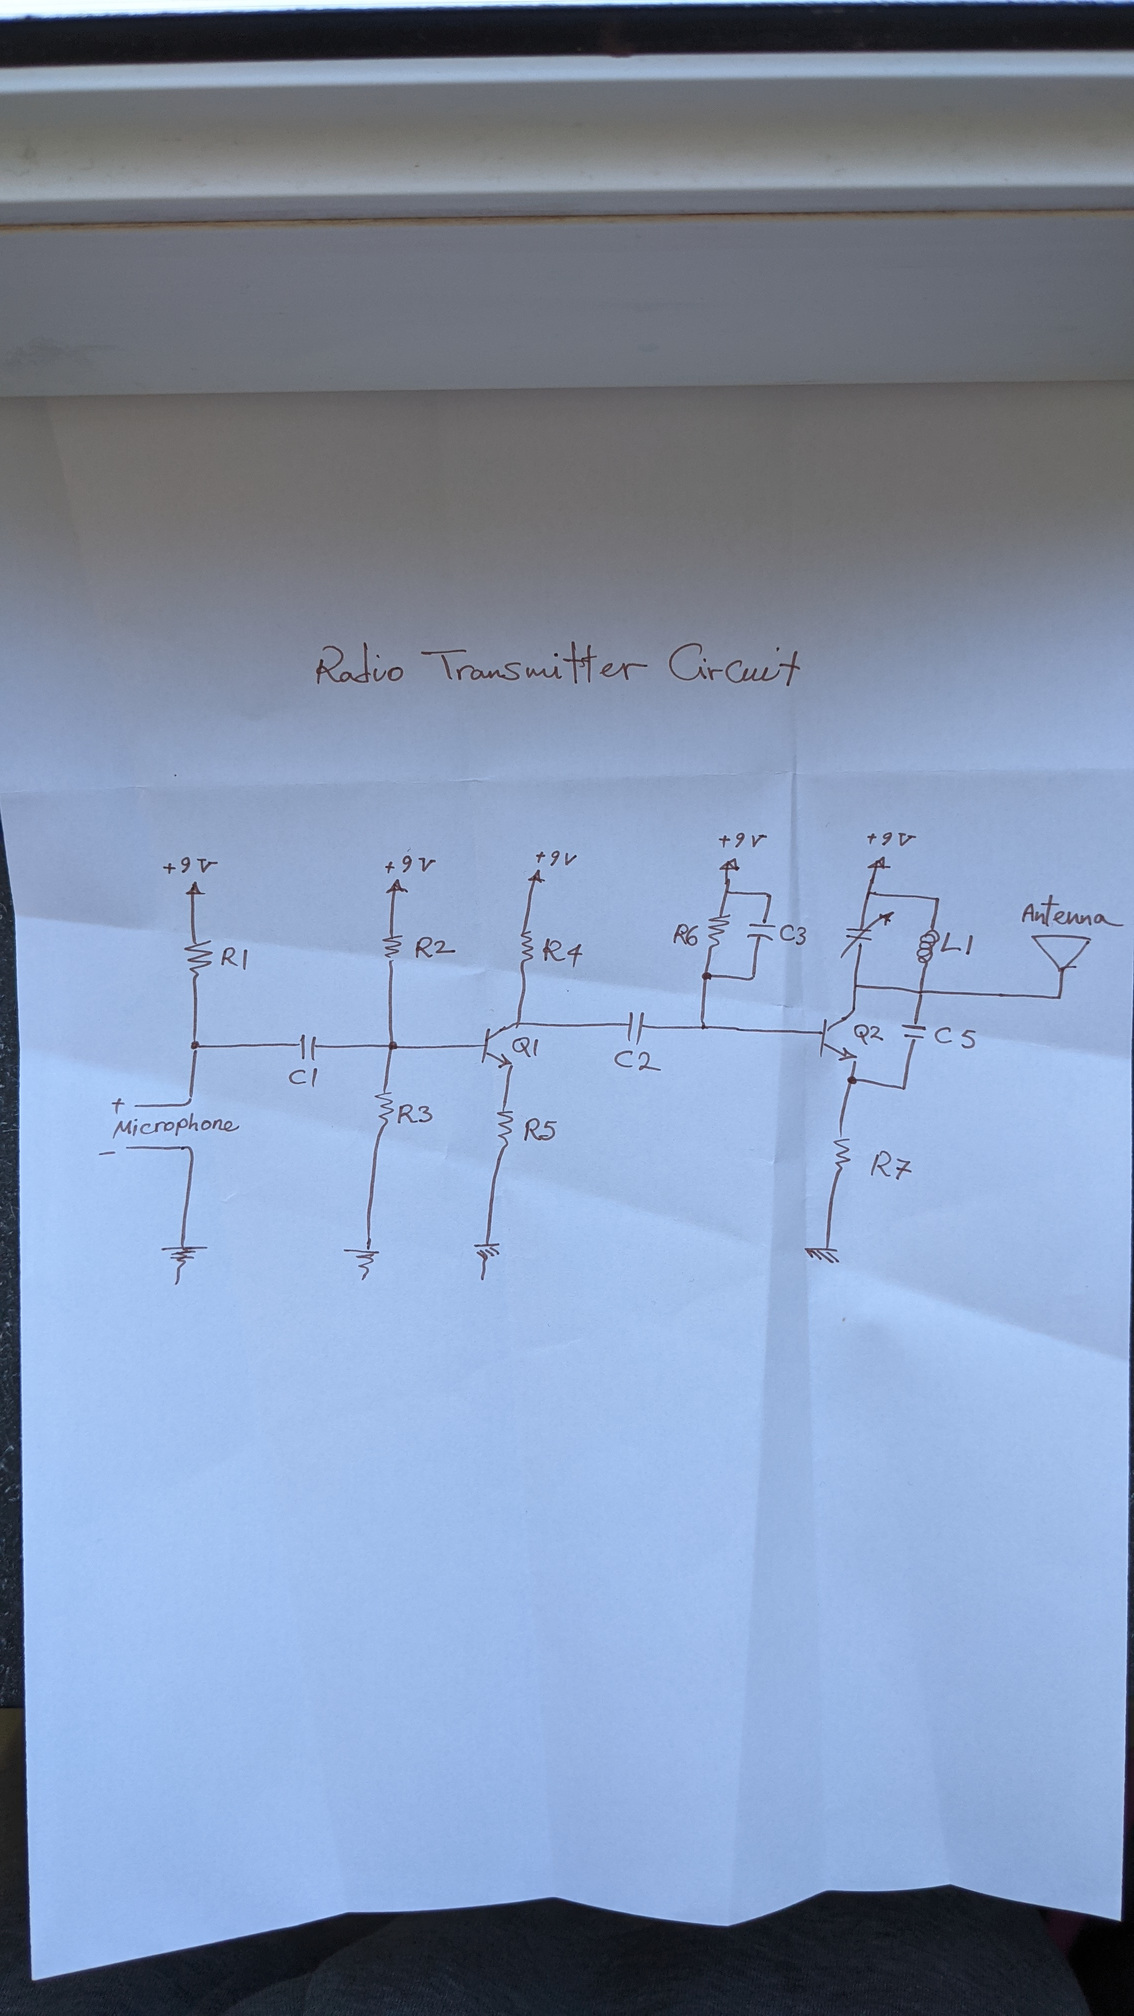antenna: (1029, 932, 1094, 975)
capacitor.unpolarized: (839, 908, 896, 960), (623, 1008, 649, 1047), (745, 919, 777, 944), (295, 1032, 320, 1063), (899, 1020, 929, 1043)
gnd: (158, 1241, 212, 1288), (341, 1243, 384, 1284), (472, 1241, 503, 1284), (802, 1243, 845, 1266)
inductor: (915, 926, 942, 966)
junction: (188, 1036, 204, 1054), (183, 1144, 198, 1158), (701, 969, 714, 984), (386, 1038, 400, 1052), (745, 971, 759, 984), (696, 1016, 709, 1032), (181, 1097, 195, 1109), (846, 1074, 858, 1086), (932, 894, 943, 906), (763, 890, 775, 900), (721, 888, 732, 897), (1054, 991, 1063, 1002), (917, 987, 926, 997), (899, 1083, 908, 1092), (864, 888, 874, 897), (852, 980, 860, 991)
resistor: (181, 937, 213, 983), (703, 912, 732, 951), (372, 1086, 396, 1130), (494, 1104, 516, 1149), (831, 1133, 853, 1174), (379, 930, 406, 965), (518, 928, 534, 965)
terminal: (122, 1141, 132, 1153), (130, 1101, 138, 1109)
text: (313, 637, 806, 691), (109, 1110, 242, 1141), (1019, 893, 1128, 929), (868, 1148, 915, 1182), (541, 936, 584, 969), (612, 1048, 665, 1074), (161, 854, 220, 876), (932, 1025, 979, 1051), (414, 935, 458, 961), (717, 829, 768, 852), (864, 828, 918, 849), (384, 854, 438, 875), (521, 1116, 559, 1144), (533, 847, 582, 870), (939, 929, 976, 957), (852, 1020, 886, 1047), (219, 944, 251, 972), (396, 1102, 433, 1126), (287, 1065, 320, 1088), (672, 922, 701, 948), (510, 1036, 541, 1059), (778, 924, 809, 947), (109, 1095, 127, 1115), (96, 1146, 116, 1159)
transistor: (817, 1007, 858, 1065), (480, 1020, 523, 1070)
vss: (384, 876, 411, 894), (184, 879, 208, 899), (865, 856, 893, 871), (717, 856, 741, 872), (526, 867, 547, 883)
